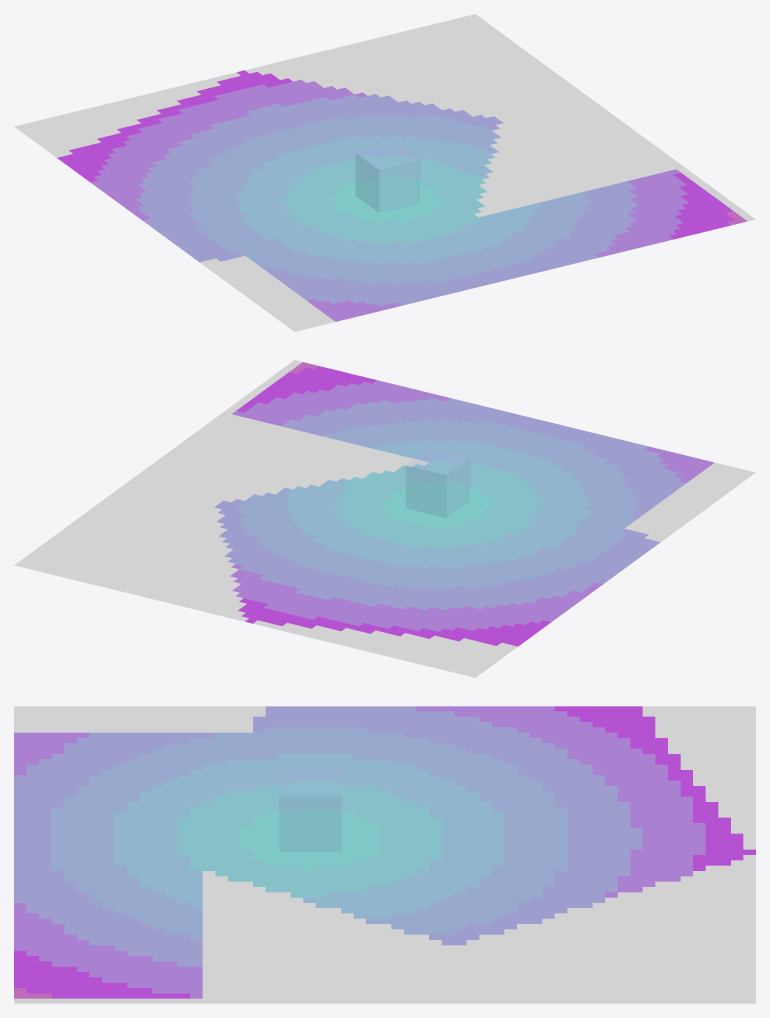
File: Elements_Analysis_AnalysisMesh.glb
3 views of the same model, one above another, from view 1: azimuth 30°, elevation 25°; view 2: azimuth 150°, elevation 25°; view 3: azimuth 270°, elevation 25° (orthographic). The views are drawn at different scales.
Visible parts, largest first — view 1: fb4f56d5-f255-48ba-b568-85d473237839_mesh, b87532dd-7ef9-4a37-9861-12f700a6a369_mesh; view 2: fb4f56d5-f255-48ba-b568-85d473237839_mesh, b87532dd-7ef9-4a37-9861-12f700a6a369_mesh; view 3: fb4f56d5-f255-48ba-b568-85d473237839_mesh, b87532dd-7ef9-4a37-9861-12f700a6a369_mesh.
Boxes of the visible parts, bbox=[...] form: fb4f56d5-f255-48ba-b568-85d473237839_mesh: bbox=[14, 14, 755, 331]; b87532dd-7ef9-4a37-9861-12f700a6a369_mesh: bbox=[356, 143, 419, 212]; fb4f56d5-f255-48ba-b568-85d473237839_mesh: bbox=[14, 360, 755, 677]; b87532dd-7ef9-4a37-9861-12f700a6a369_mesh: bbox=[406, 448, 469, 517]; fb4f56d5-f255-48ba-b568-85d473237839_mesh: bbox=[14, 706, 755, 1003]; b87532dd-7ef9-4a37-9861-12f700a6a369_mesh: bbox=[280, 769, 341, 851].
Size of the model in its own units: 11.2 by 1 by 11.8.
